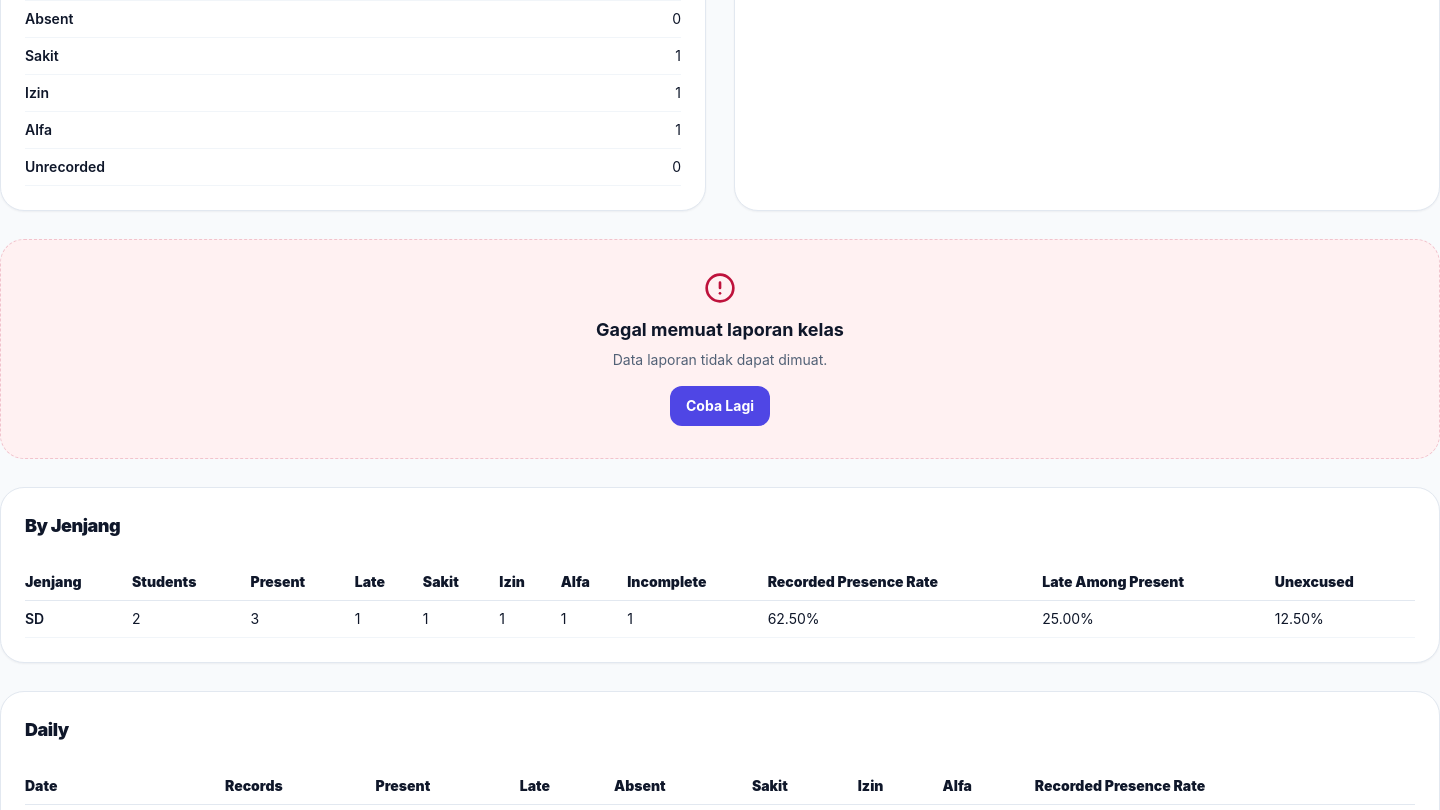
Scenario: AttendanceAnalytics › keeps a failed report isolated and retries it independently
(page scrolled)
expect the message "Gagal memuat laporan kelas Data laporan tidak dapat dimuat. Coba Lagi" is shown: met, box [0, 239, 1439, 459]
Click the button "Coba Lagi": point(720, 406) [670, 386, 770, 426]
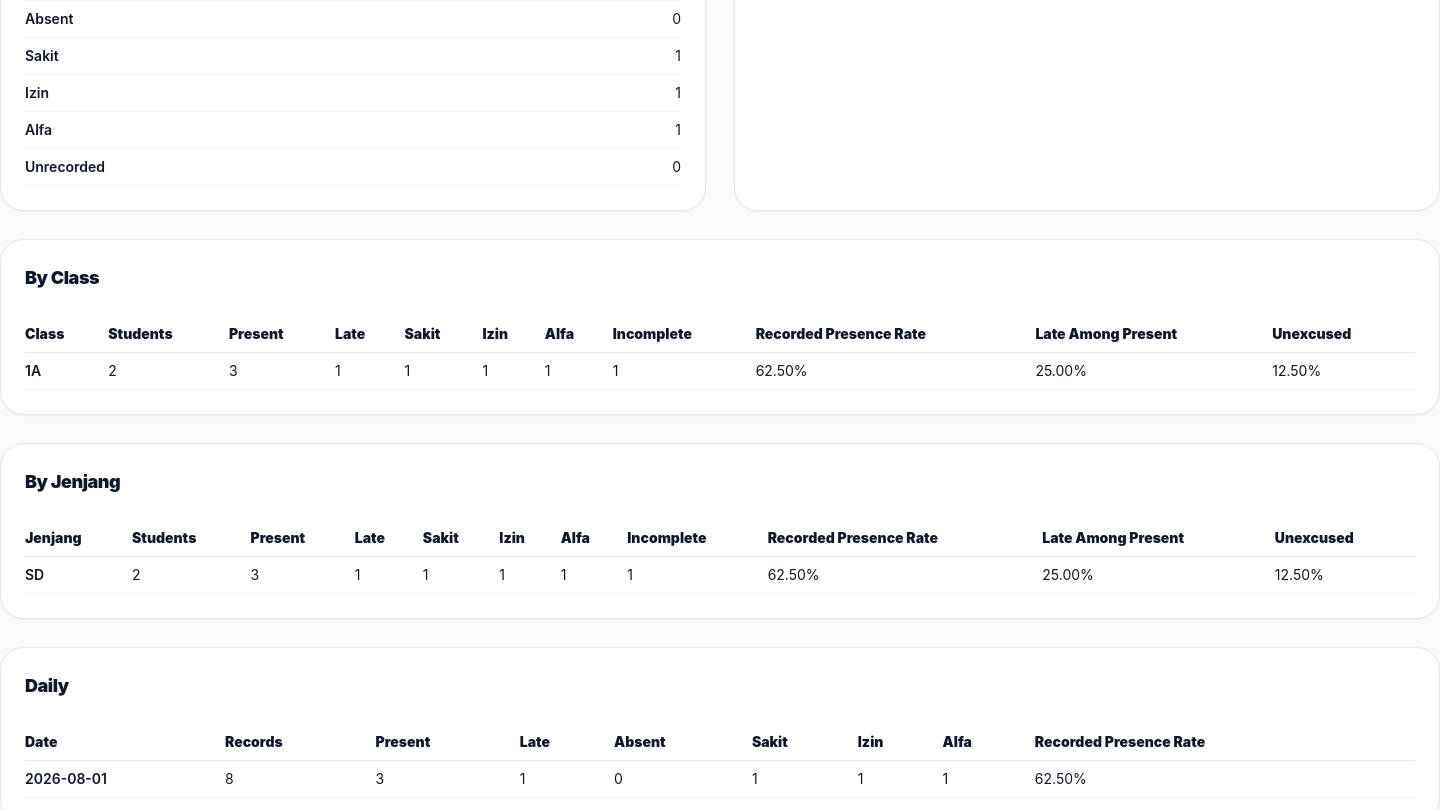
expect the text "By Class" is shown: met, box [25, 267, 99, 288]
